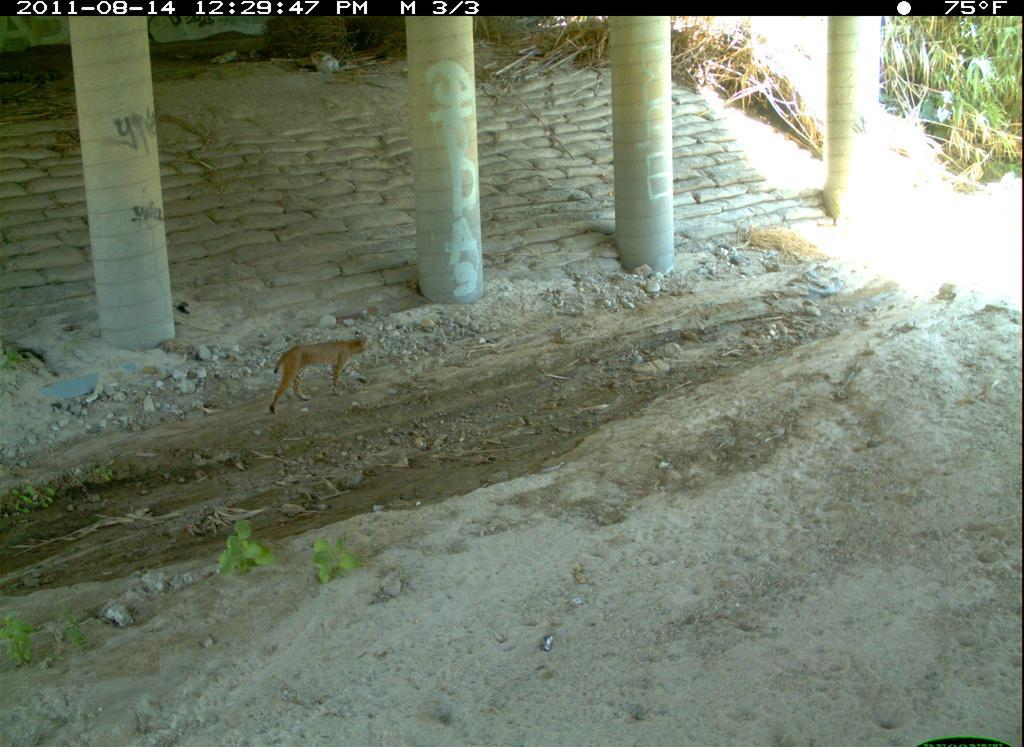bobcat: (530, 659, 757, 747)
